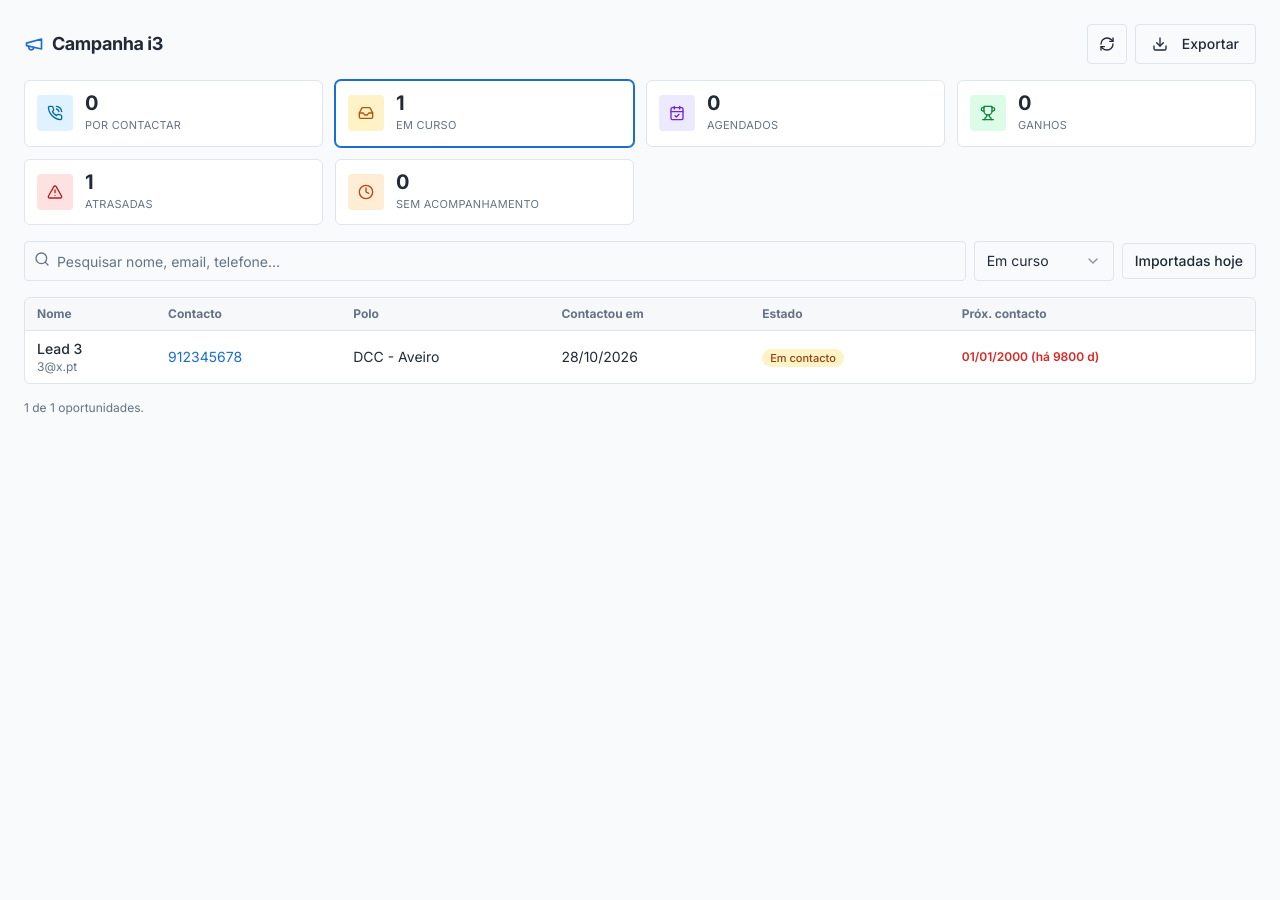
Scenario: Campanha i3 — vendedor › só com consulta (view) não pode guardar
Click the text "Lead 3": (60, 348) 37,340 -> 82,357
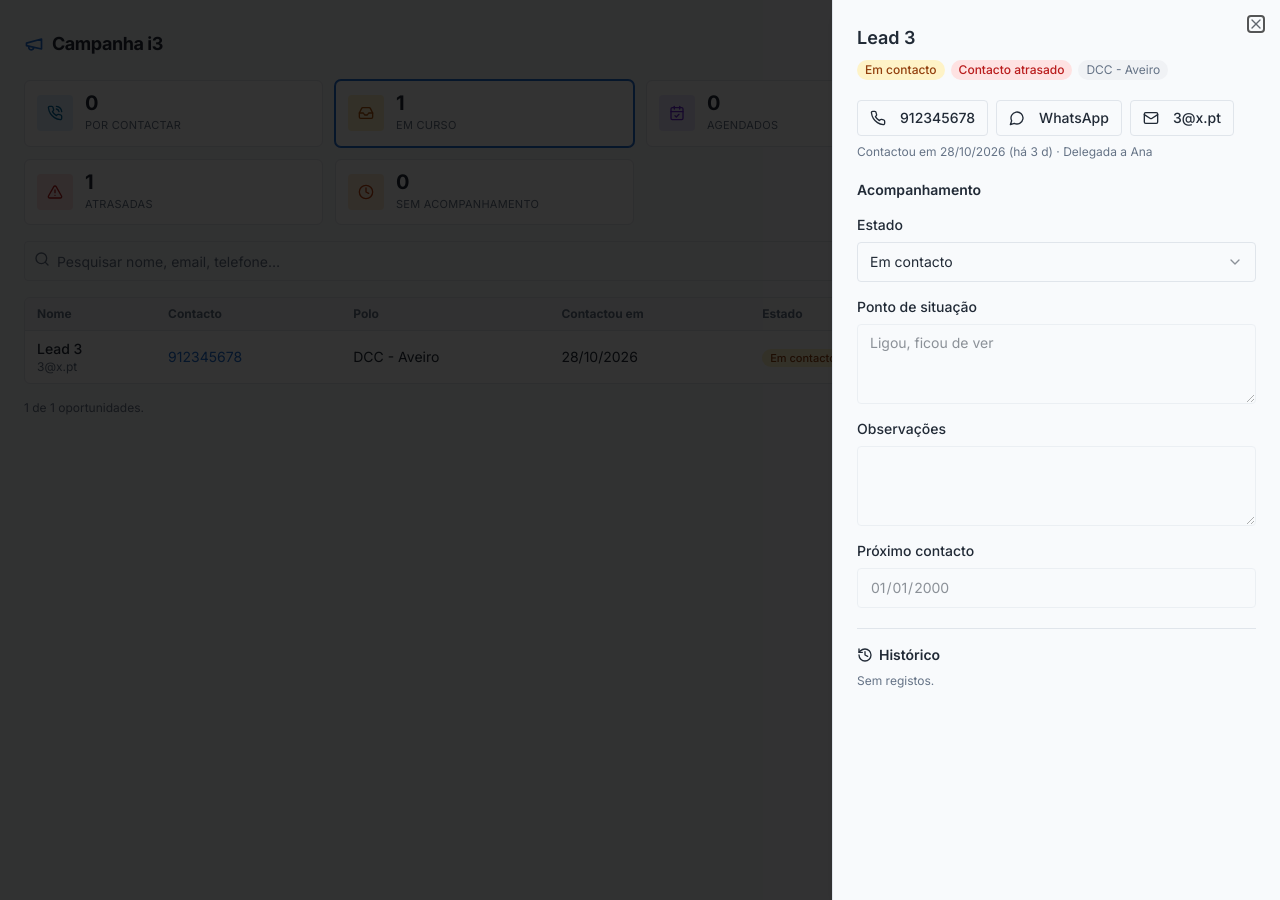
Check: the text box labelled "Ponto de situação" is disabled, box 857,324 -> 1256,404
